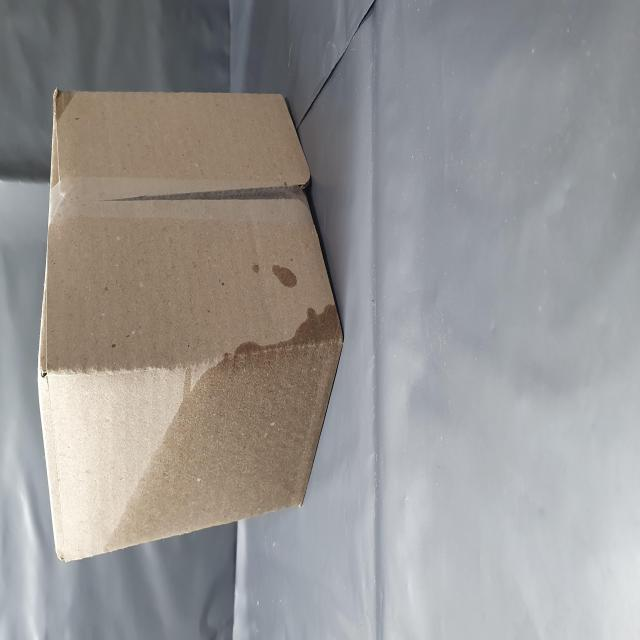wet: (53, 195, 189, 617)
